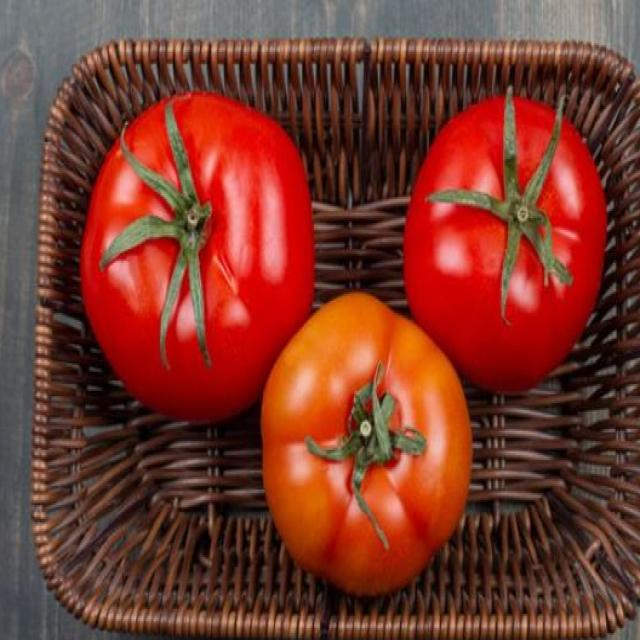Healthy: (67, 80, 320, 428), (275, 284, 473, 588), (409, 90, 613, 350)
